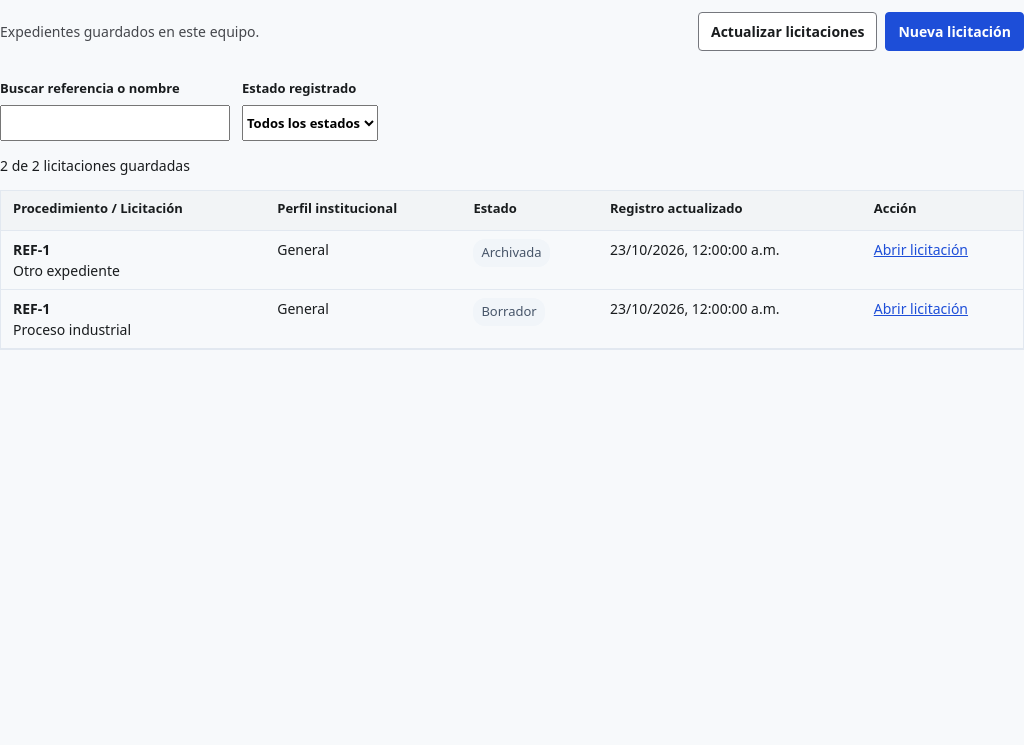
Test: ambiguous creation failure does not retry automatically and retains draft
Click the button "Nueva licitación": (955,32) [886, 12, 1023, 51]
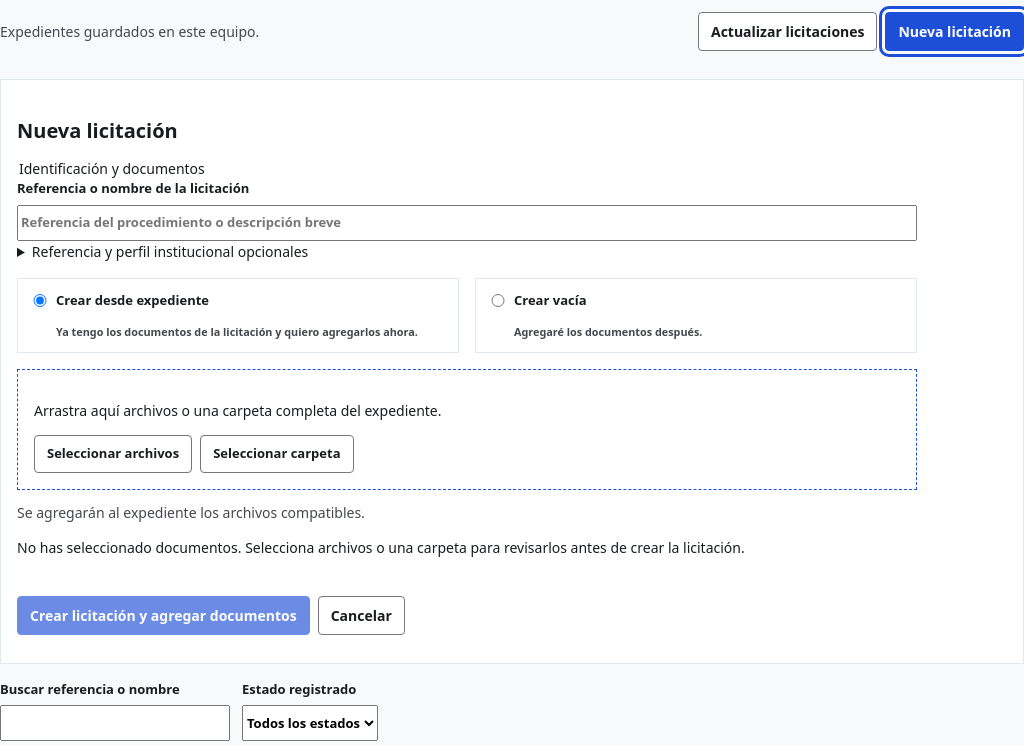
In the field labelled "Referencia o nombre de la licitación": (467,222) [17, 204, 917, 240], type "Mi borrador"
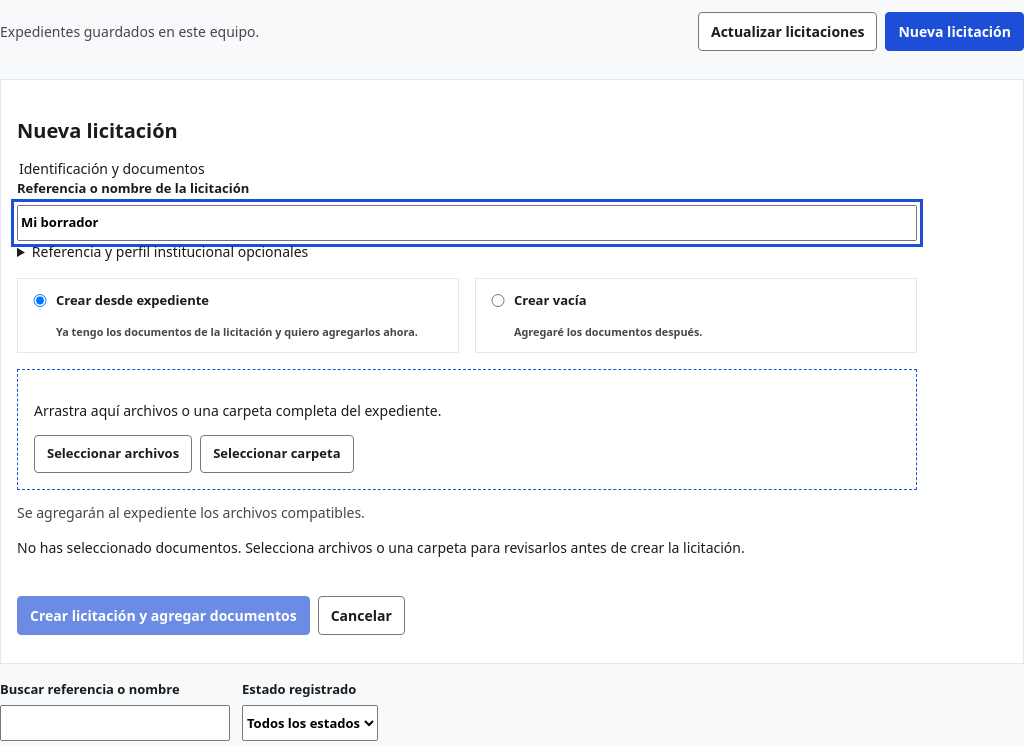
Click the radio button labelled "Crear vacía Agregaré los documentos después.": (498,300) [488, 294, 508, 306]
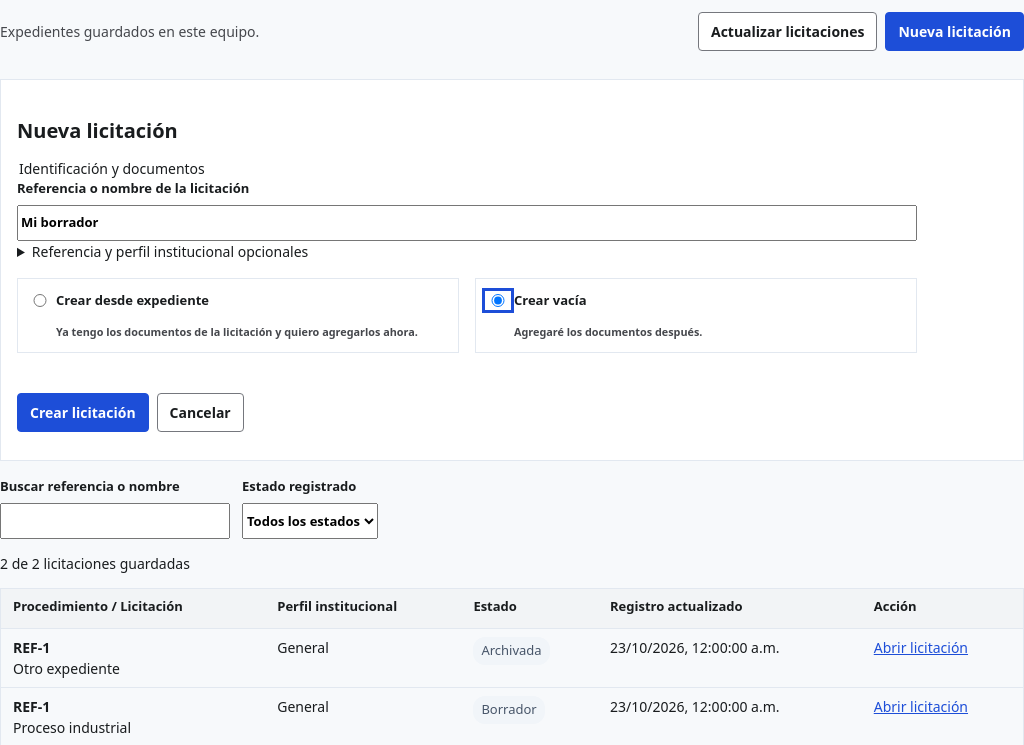
Click the button "Crear licitación": (83,413) [17, 393, 149, 432]
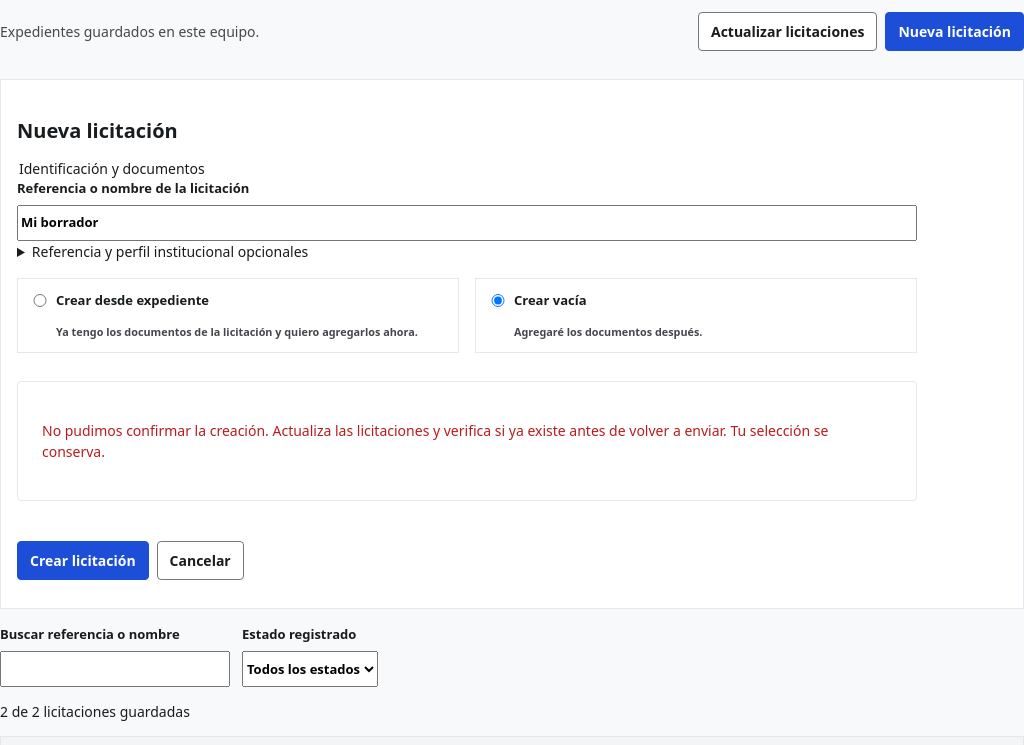
Result: the text "No pudimos confirmar la creación" is shown at [42, 421, 828, 461]
